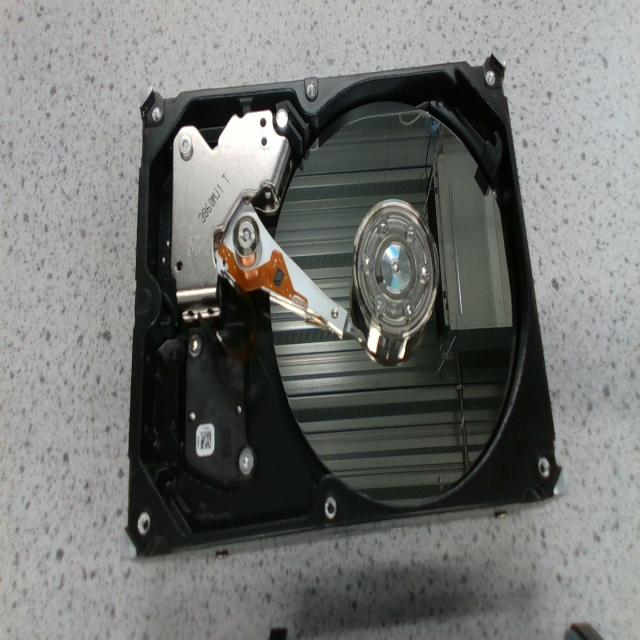actuator arm: (214, 203, 350, 339)
actuator axis: (237, 220, 256, 254)
case: (124, 55, 562, 557)
magnet: (170, 110, 290, 300)
pcb connector: (185, 328, 246, 484)
platter: (269, 95, 520, 505)
platter holder: (353, 200, 440, 339)
screw: (238, 447, 254, 476), (188, 334, 202, 356), (359, 253, 373, 274), (179, 132, 191, 155), (403, 301, 415, 322), (374, 294, 386, 314), (419, 262, 429, 282), (406, 222, 416, 240), (378, 220, 386, 233)
